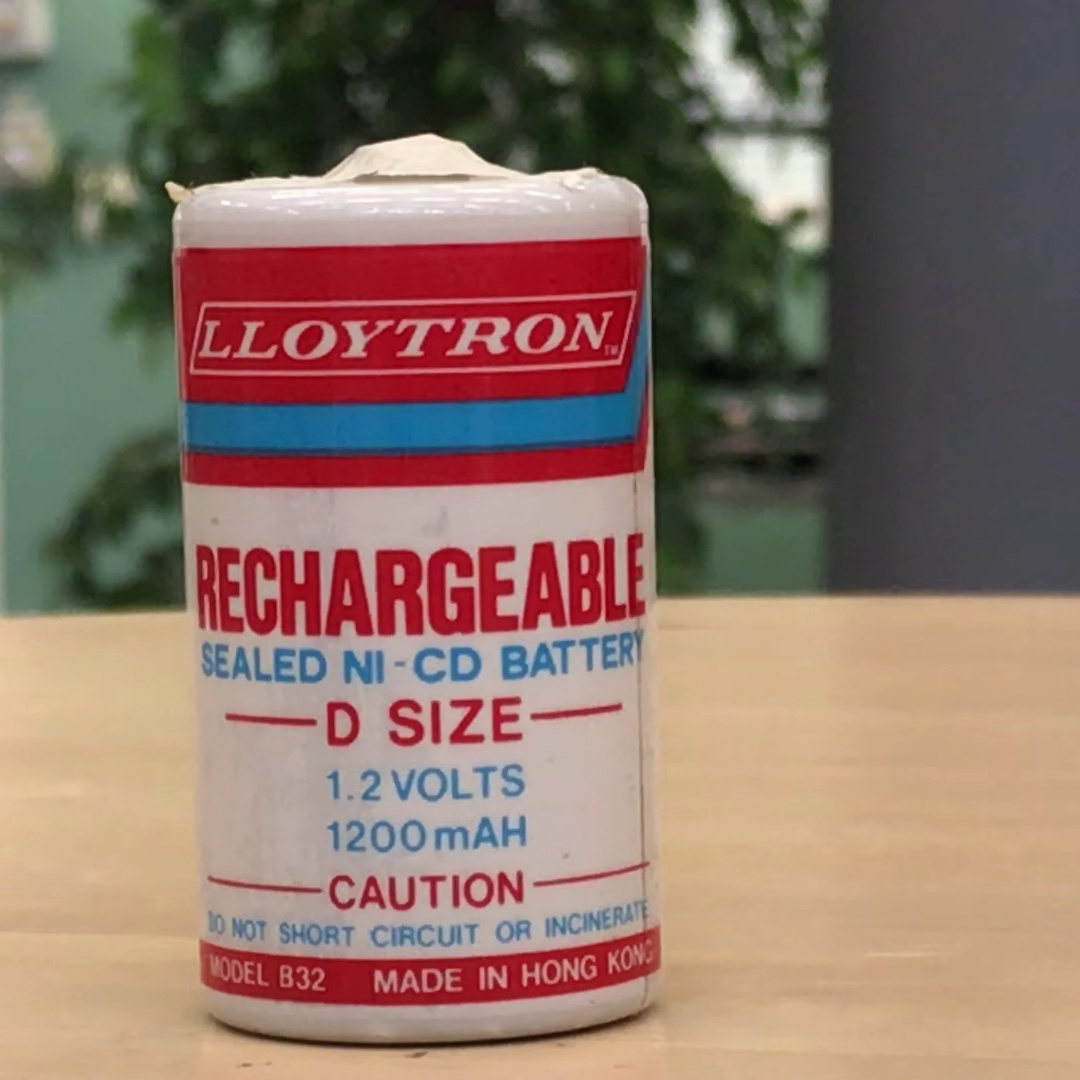keyword: (334, 637, 491, 715), (318, 723, 414, 810)
